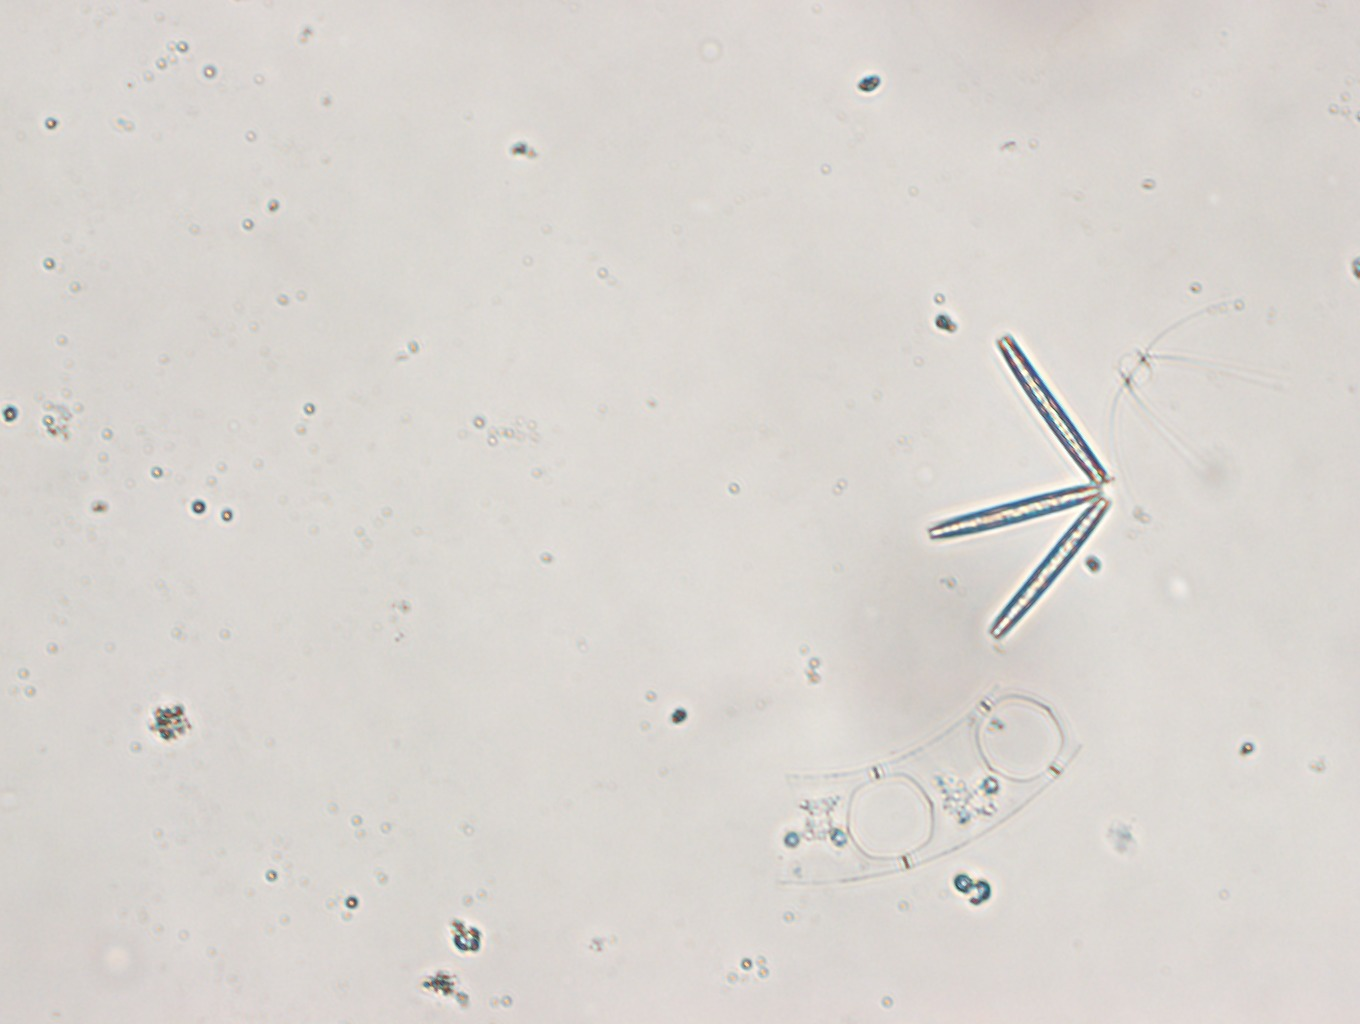chaetoceros: (1111, 291, 1286, 531)
eucampia: (769, 672, 1084, 891)
thalassionema nitzschioides: (927, 333, 1115, 641)
